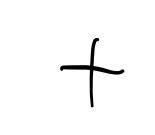plus: (60, 38, 124, 108)
